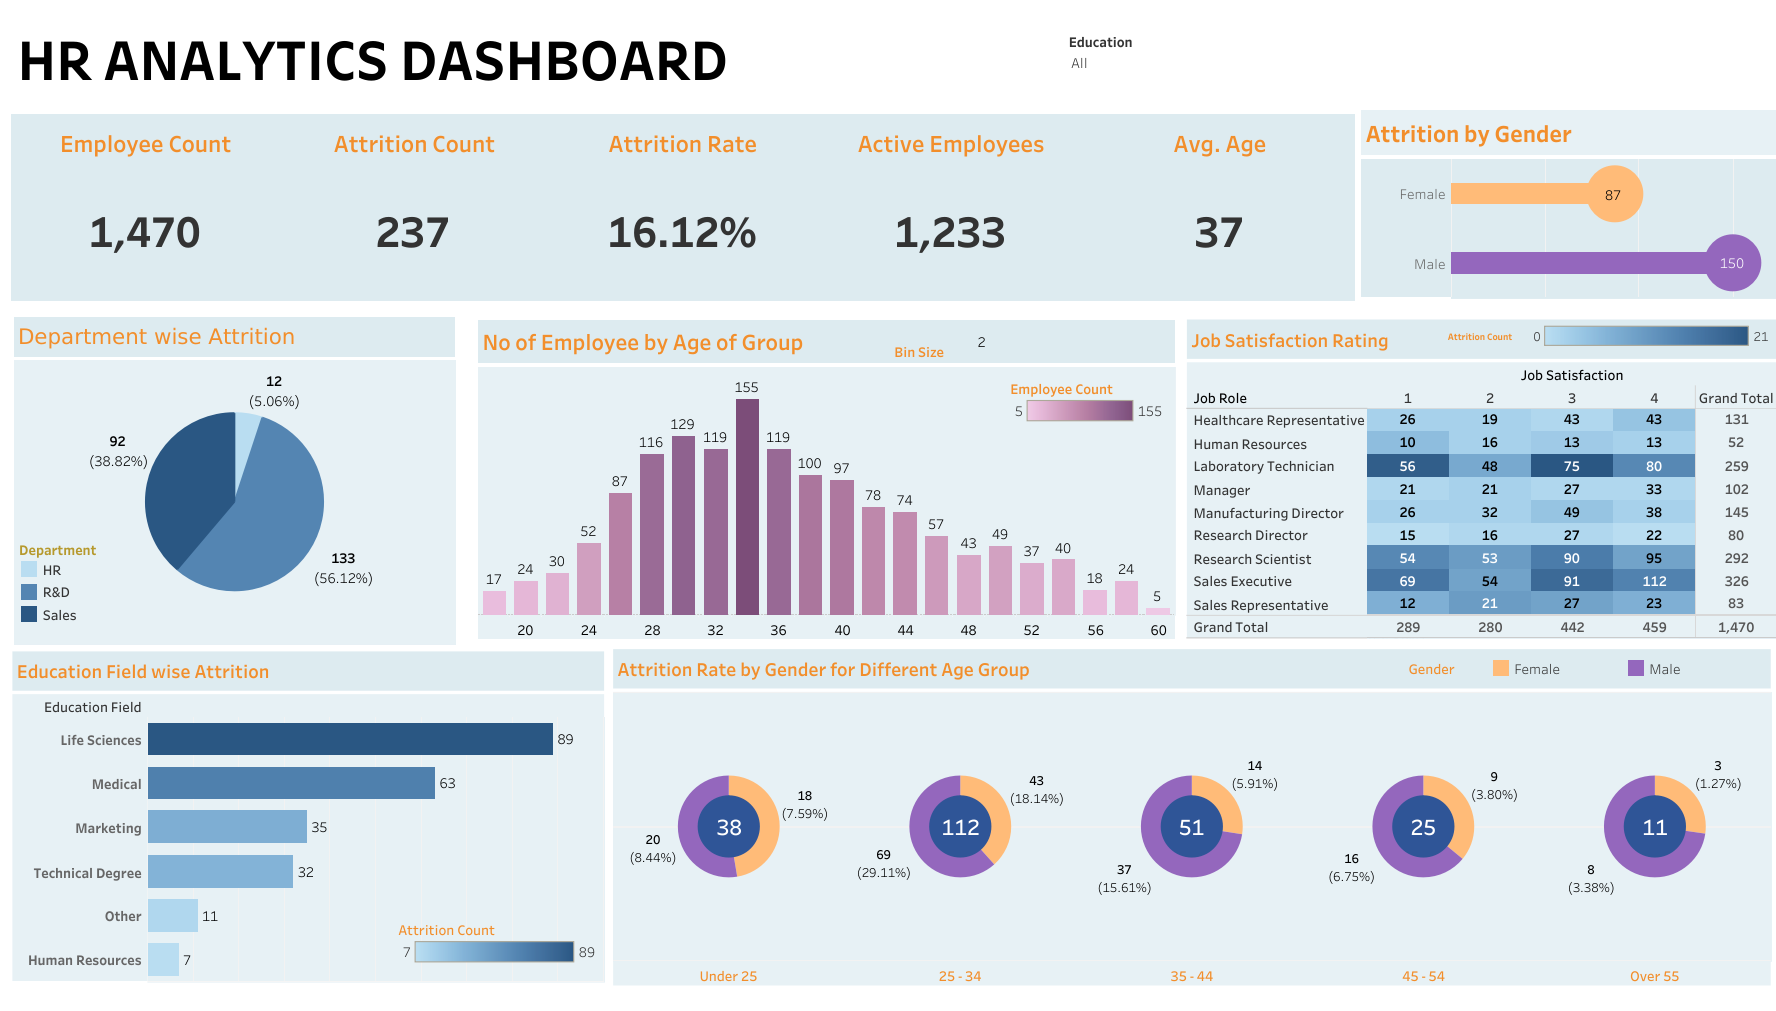

The page's visual inventory and layout, read from the dashboard file:
{"tool":"tableau","page":{"name":"HR ANALYTICS DASHBOARD","canvas":[1580,900],"ordinal":0},"visuals":[{"type":"text","box":[13,6,822,90]},{"type":"worksheet","title":"Attrition by Gender","mark":"Automatic","rows":["Gender"],"cols":["Calculation_1385419862937251840","Calculation_1385419862937251840"],"box":[1210,98,369,166]},{"type":"worksheet","title":"KPI","mark":"Automatic","box":[10,101,1194,165]},{"type":"worksheet","title":"Department wise Attrition","mark":"Pie","box":[12,282,392,290]},{"type":"worksheet","title":"No of Employee by Age of Group","mark":"Automatic","rows":["Employee Count"],"cols":["Age (bin)"],"box":[425,284,619,284]},{"type":"worksheet","title":"Job Satisfaction Rating","mark":"Square","rows":["Job Role"],"cols":["Job Satisfaction"],"box":[1055,284,526,284]},{"type":"legend","title":"Job Satisfaction Rating","param":"[federated.03gpy5s08q5dgf12h64be1wflwzp].[sum:Calculation_1385419862937251840:qk","box":[1287,286,290,36]},{"type":"parameter","param":"[Parameters].[Parameter 1]","box":[795,294,246,36]},{"type":"legend","title":"No of Employee by Age of Group","param":"[federated.03gpy5s08q5dgf12h64be1wflwzp].[sum:Employee Count:qk]","box":[898,332,140,88]},{"type":"legend","title":"Department wise Attrition","param":"[federated.03gpy5s08q5dgf12h64be1wflwzp].[none:Department:nk]","box":[16,477,118,85]},{"type":"worksheet","title":"Attrition Rate by Gender for Different Age Group","mark":"Pie","rows":["Calculation_1411597036507295746","Calculation_1411597036507295746"],"cols":["CF_age band"],"box":[545,577,1029,299]},{"type":"worksheet","title":"Education Field wise Attrition","mark":"Automatic","rows":["Education Field"],"cols":["Calculation_1385419862937251840"],"box":[11,579,526,293]},{"type":"legend","title":"Attrition Rate by Gender for Different Age Group","param":"[federated.03gpy5s08q5dgf12h64be1wflwzp].[none:Gender:nk]","box":[1252,584,320,36]},{"type":"legend","title":"Education Field wise Attrition","param":"[federated.03gpy5s08q5dgf12h64be1wflwzp].[sum:Calculation_1385419862937251840:qk","box":[354,813,180,54]}]}

Visuals, with their boxes in screenshot pixels (x1, y1, x2, y2), scaled from the page's 1580x900 canvas onto the 1776x1011 screenshot:
text: x1=15 y1=7 x2=939 y2=108
"Attrition by Gender" worksheet: x1=1360 y1=110 x2=1775 y2=297
"KPI" worksheet: x1=11 y1=113 x2=1353 y2=299
"Department wise Attrition" worksheet (Pie marks): x1=13 y1=317 x2=454 y2=643
"No of Employee by Age of Group" worksheet: x1=478 y1=319 x2=1174 y2=638
"Job Satisfaction Rating" worksheet (Square marks): x1=1186 y1=319 x2=1775 y2=638
"Job Satisfaction Rating" legend: x1=1447 y1=321 x2=1773 y2=362
parameter: x1=894 y1=330 x2=1170 y2=371
"No of Employee by Age of Group" legend: x1=1009 y1=373 x2=1167 y2=472
"Department wise Attrition" legend: x1=18 y1=536 x2=151 y2=631
"Attrition Rate by Gender for Different Age Group" worksheet (Pie marks): x1=613 y1=648 x2=1769 y2=984
"Education Field wise Attrition" worksheet: x1=12 y1=650 x2=604 y2=980
"Attrition Rate by Gender for Different Age Group" legend: x1=1407 y1=656 x2=1767 y2=696
"Education Field wise Attrition" legend: x1=398 y1=913 x2=600 y2=974
